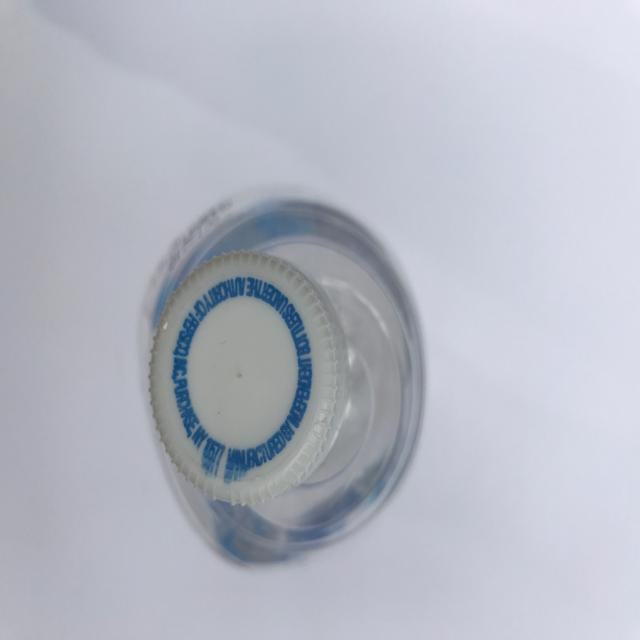plastic: (142, 193, 426, 566)
